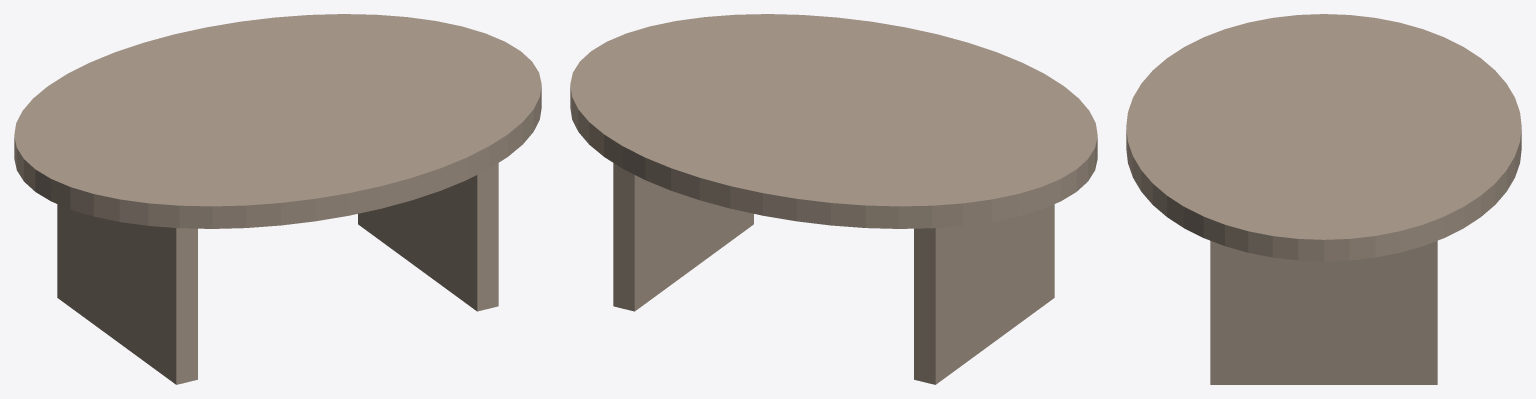
File: clem-coffee-table-smoke-oak.glb
The picture shows the model from 3 angles, left to right: view 1: azimuth 30°, elevation 25°; view 2: azimuth 150°, elevation 25°; view 3: azimuth 270°, elevation 25°; orthographic projection. The views are drawn at different scales.
Visible parts, largest first — view 1: geometry_0; view 2: geometry_0; view 3: geometry_0.
Boxes of the visible parts, <box> form: geometry_0: <box>14,14,541,384</box>; geometry_0: <box>570,14,1097,384</box>; geometry_0: <box>1126,14,1521,384</box>.
Size of the model in its own units: 0.9 by 0.34 by 0.666.
